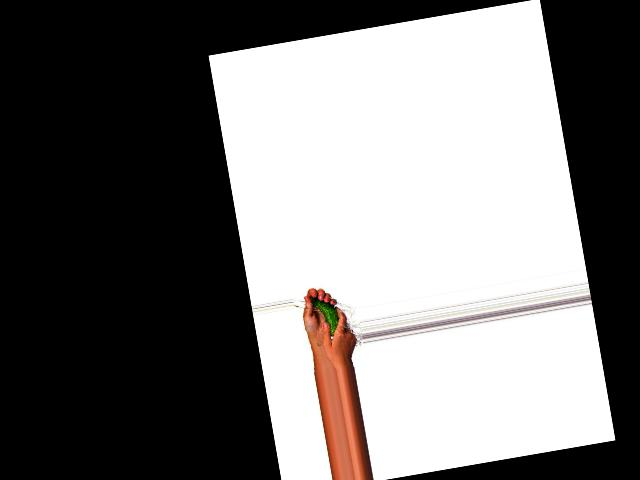cucumber: (310, 292, 342, 339)
